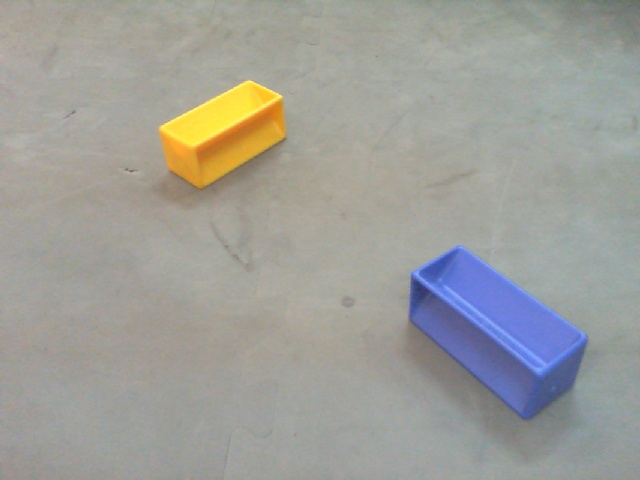BlueSample: (407, 239, 594, 436)
YellowSample: (153, 78, 298, 190)
